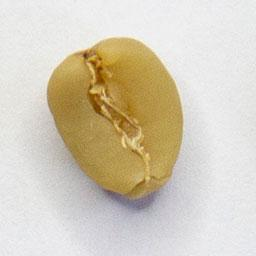defect: (45, 35, 187, 203)
